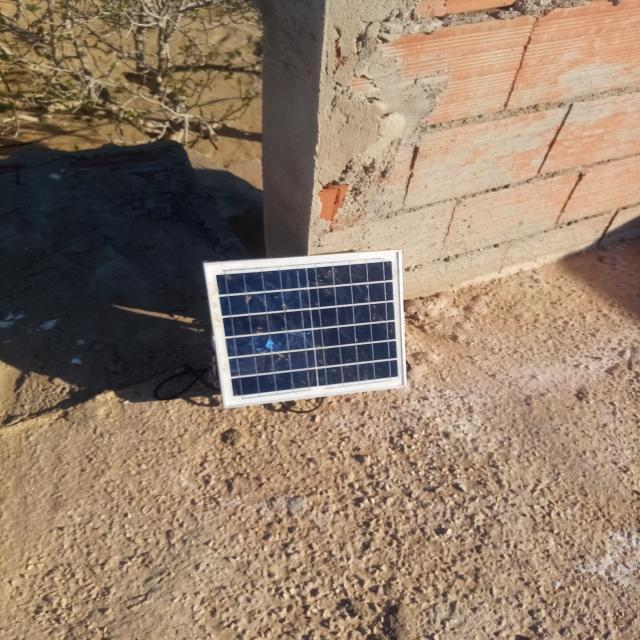faulty: (204, 251, 406, 408)
